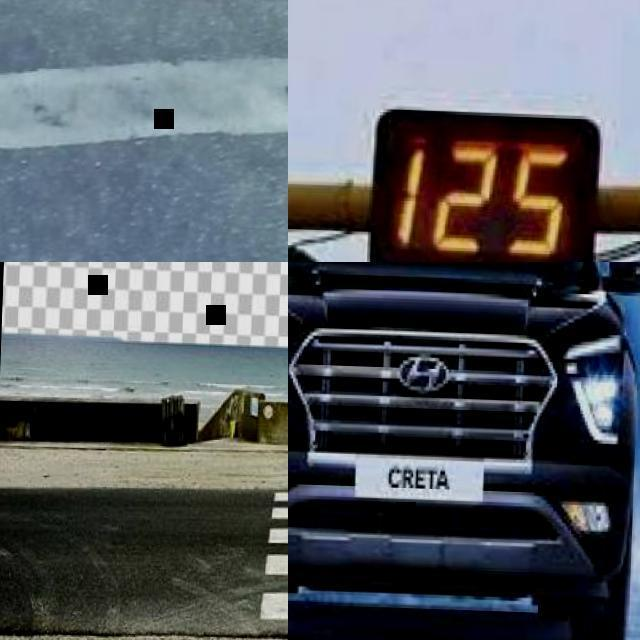car: (474, 462, 630, 547), (402, 356, 445, 394)
